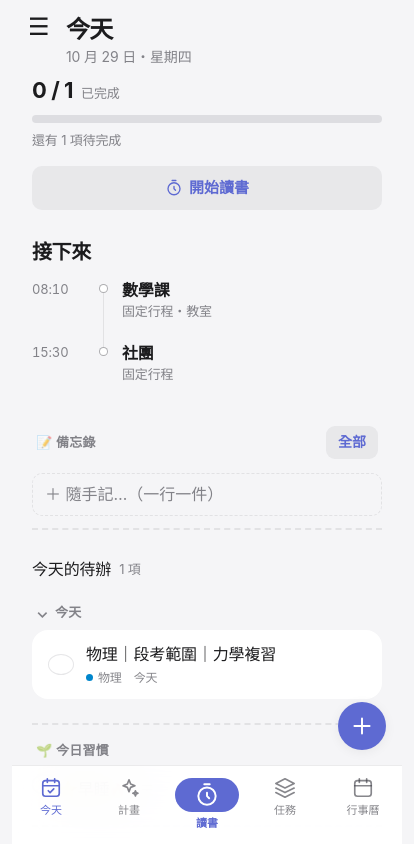
Test: 正式 Plan（API） › 有 plan_id 的任務不會再被 legacy 推導撿走（不會重複出現兩次）
Expected: the heading "今天" is shown, [66,15,113,44]
Expected: the text "物理｜段考範圍｜力學複習" is shown, [86,644,276,664]
Step 1. Click the button "計畫" → (129,805), box [90,766,168,843]
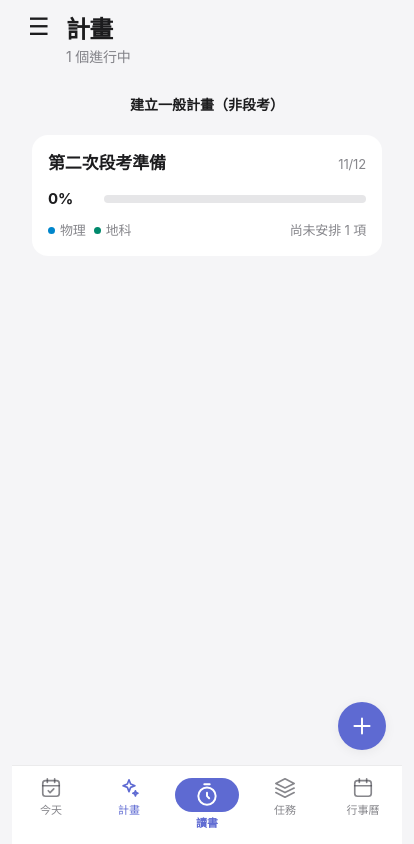
Now the text "第二次段考準備" is shown once, box [48,151,166,176]
